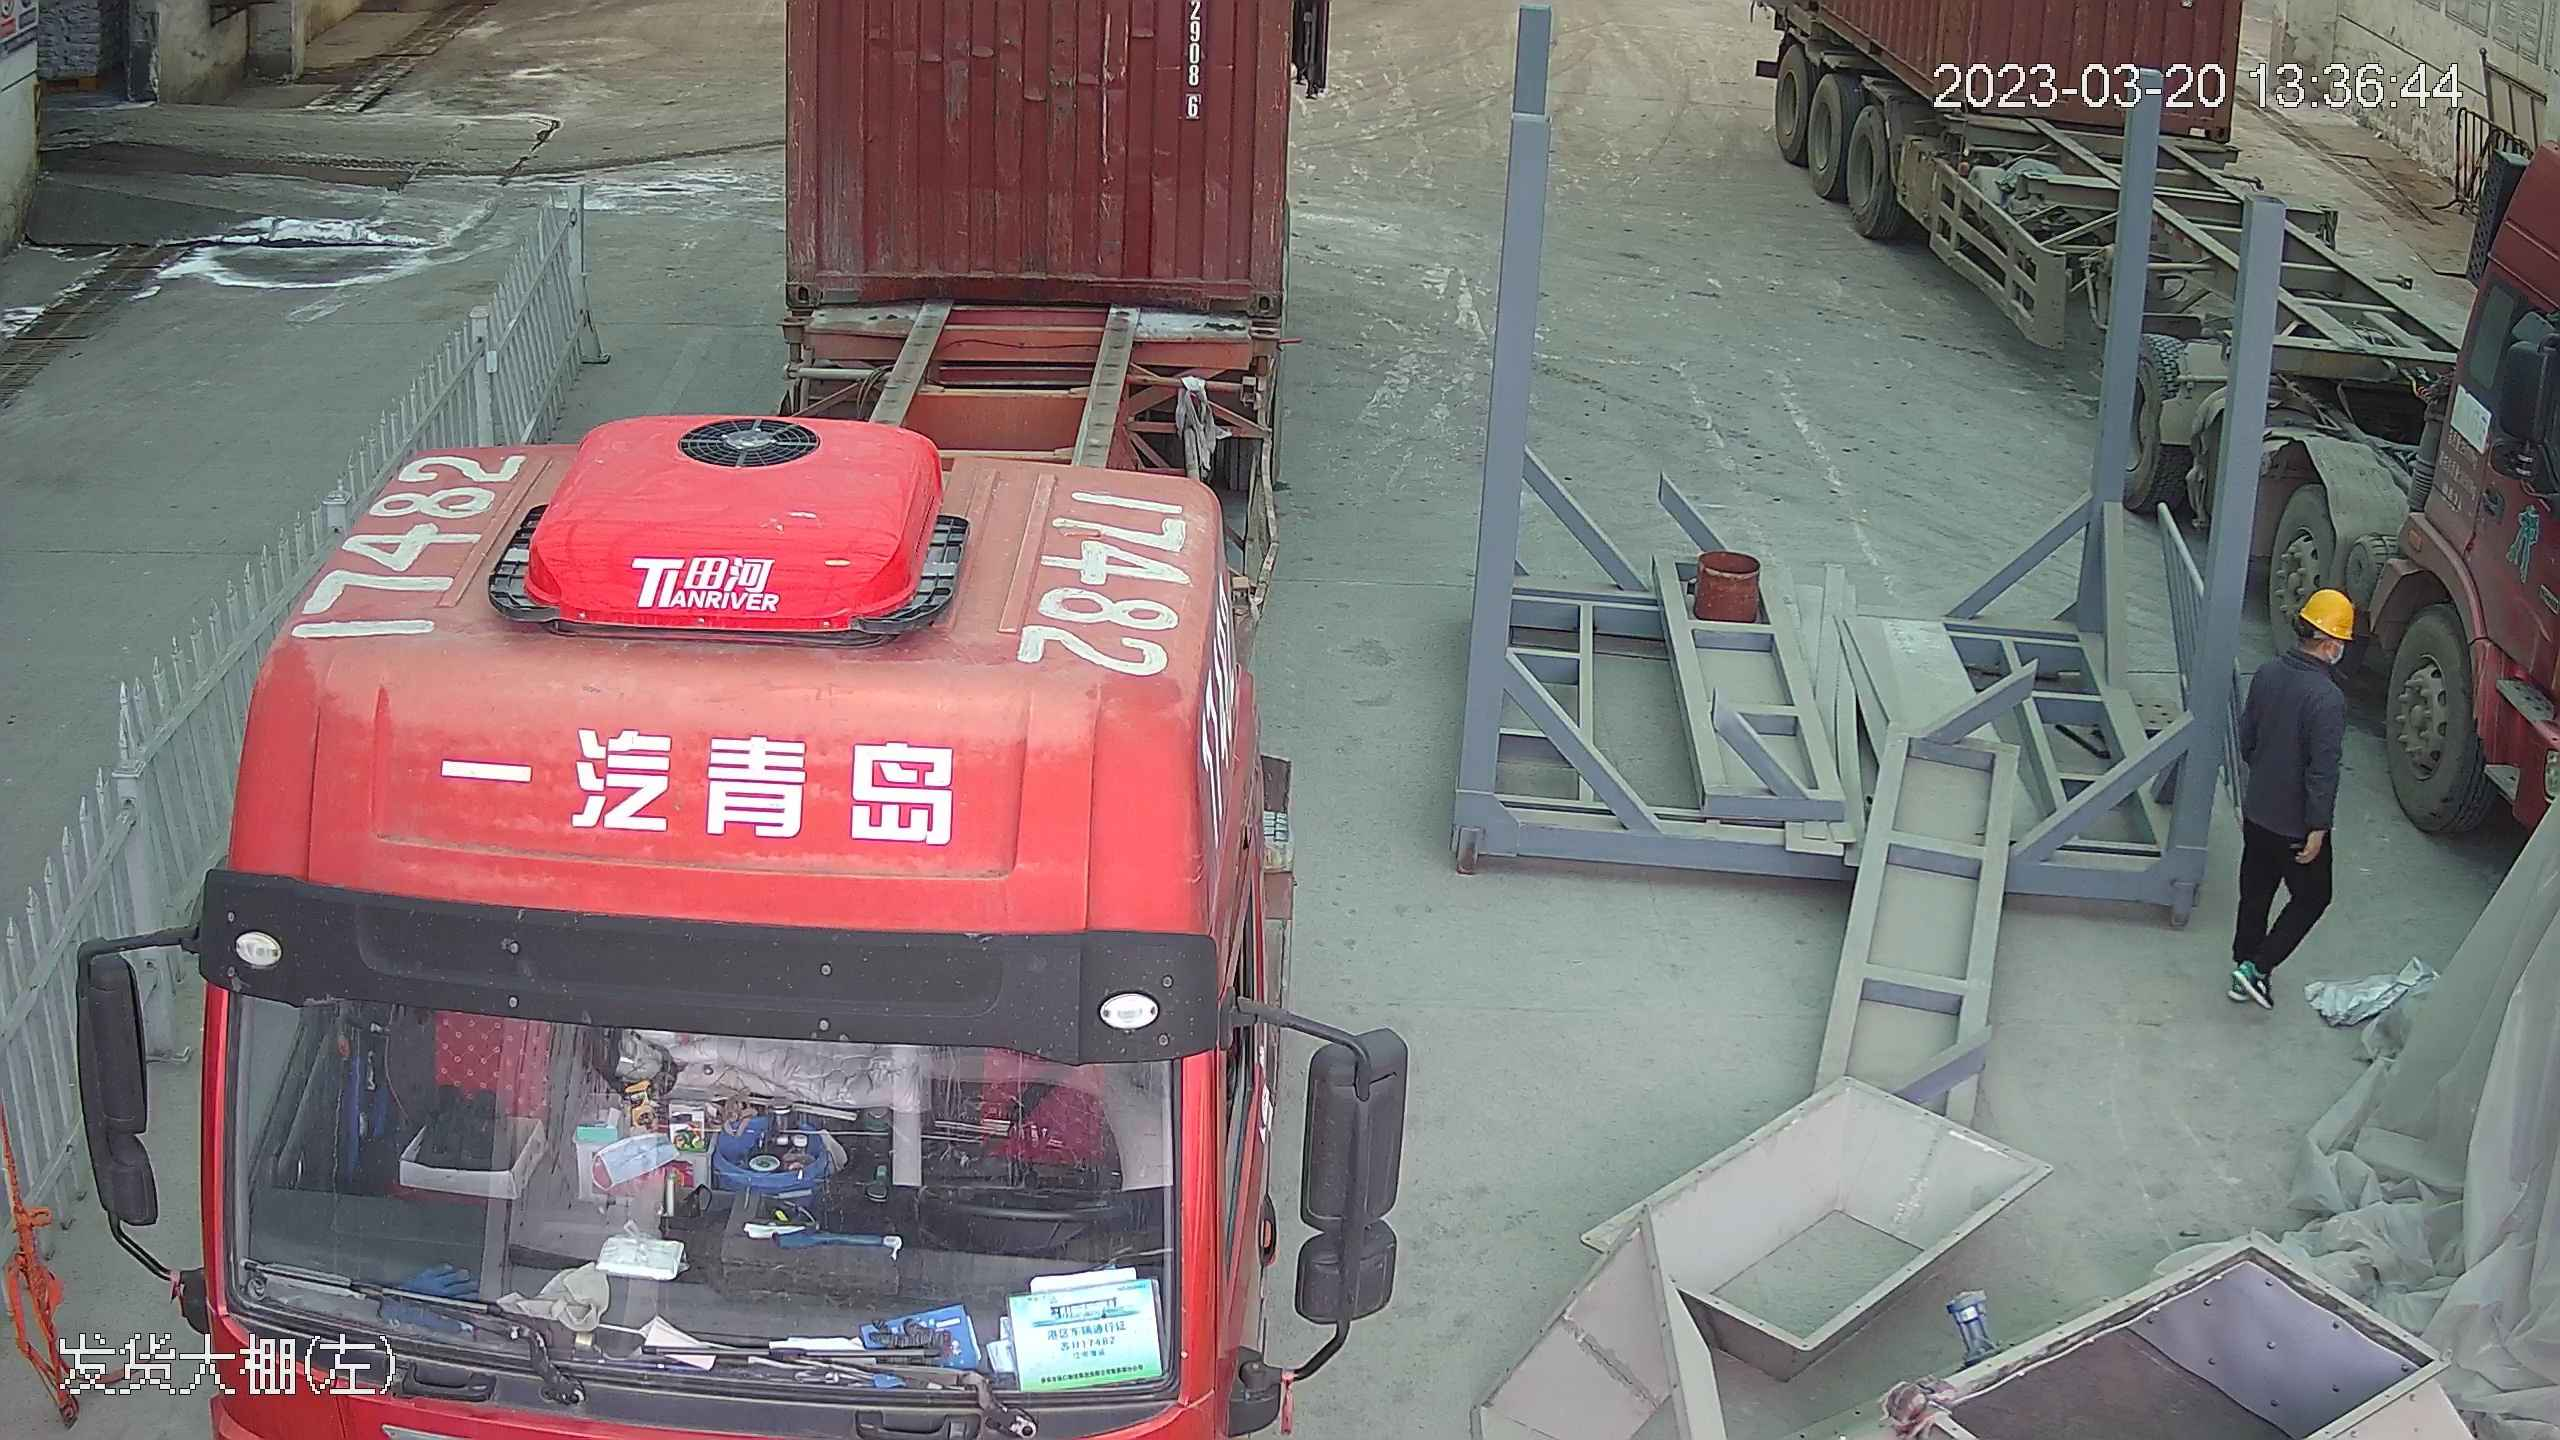head: (2243, 583, 2361, 727)
helmet: (2296, 584, 2360, 644)
people: (2224, 582, 2358, 1005)
truck: (71, 0, 1306, 1440)
